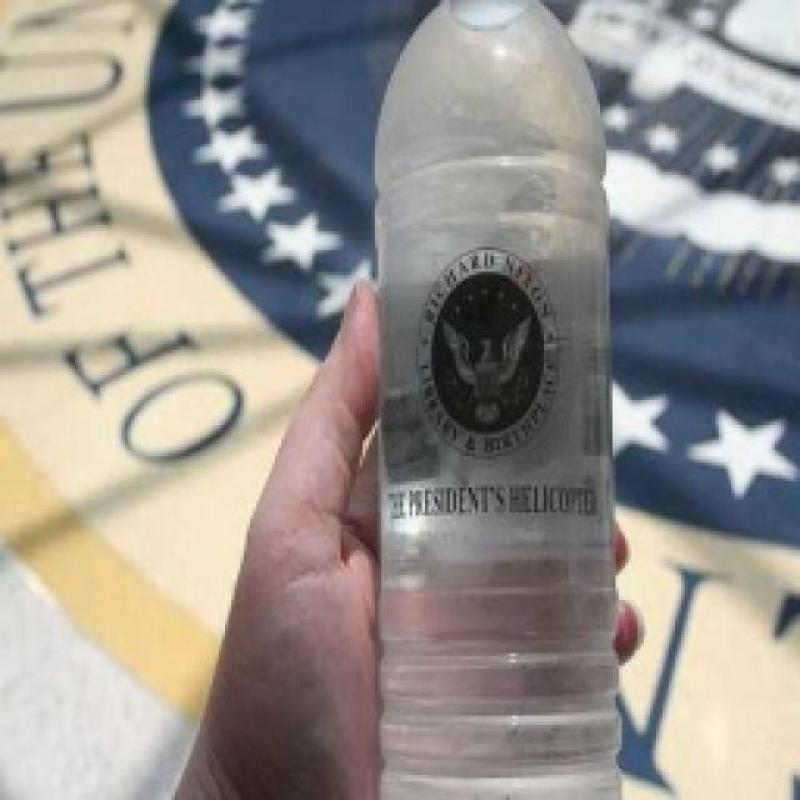botella: (370, 0, 624, 800)
